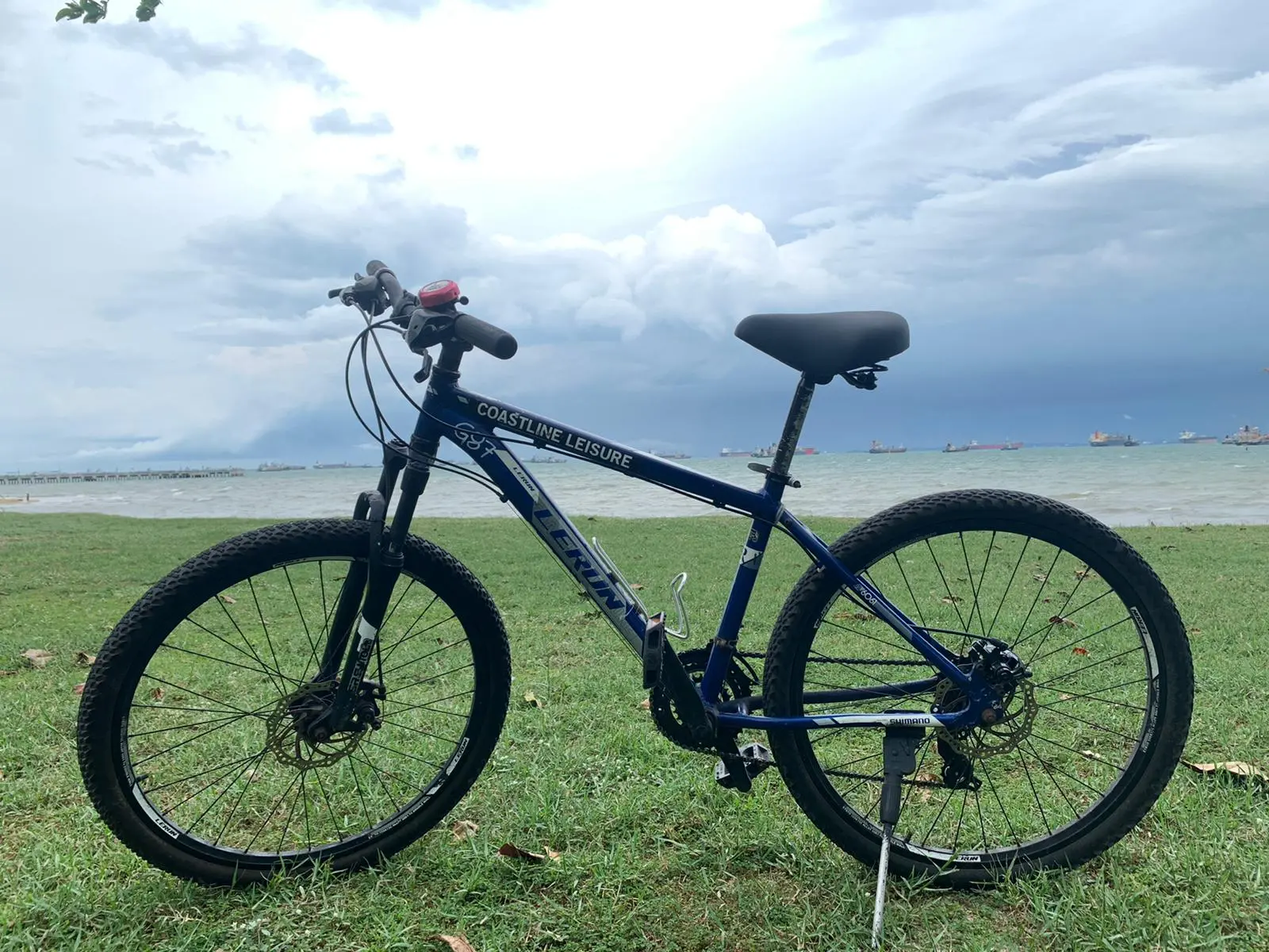vehicle: (79, 260, 1193, 933)
